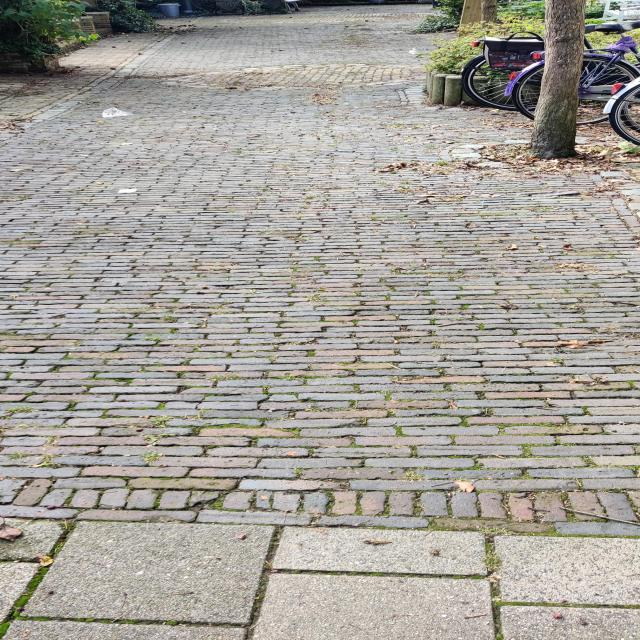litter: (77, 95, 134, 127)
